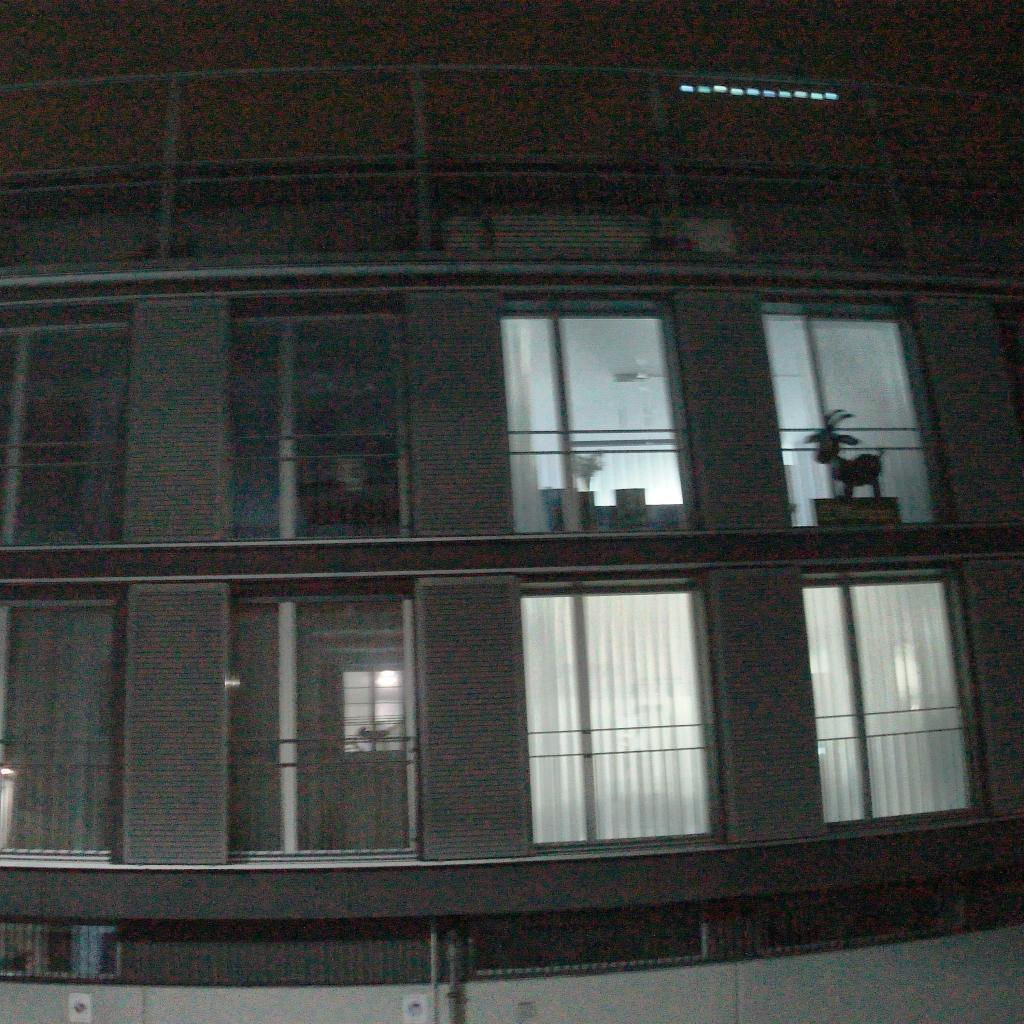facade: (0, 529, 1024, 862), (0, 252, 1024, 546), (0, 815, 1024, 914)
window: (521, 591, 718, 842), (228, 596, 415, 852), (499, 313, 695, 533), (230, 312, 420, 538), (802, 581, 974, 823), (763, 312, 940, 530), (3, 600, 122, 854), (0, 323, 132, 546)
